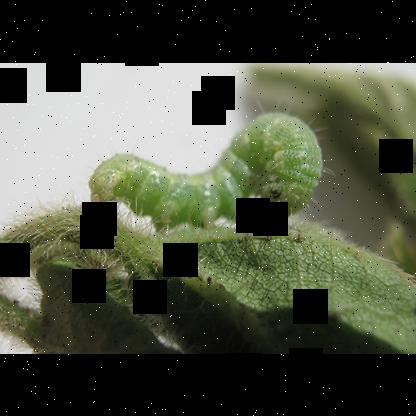oruga: (84, 106, 330, 233)
